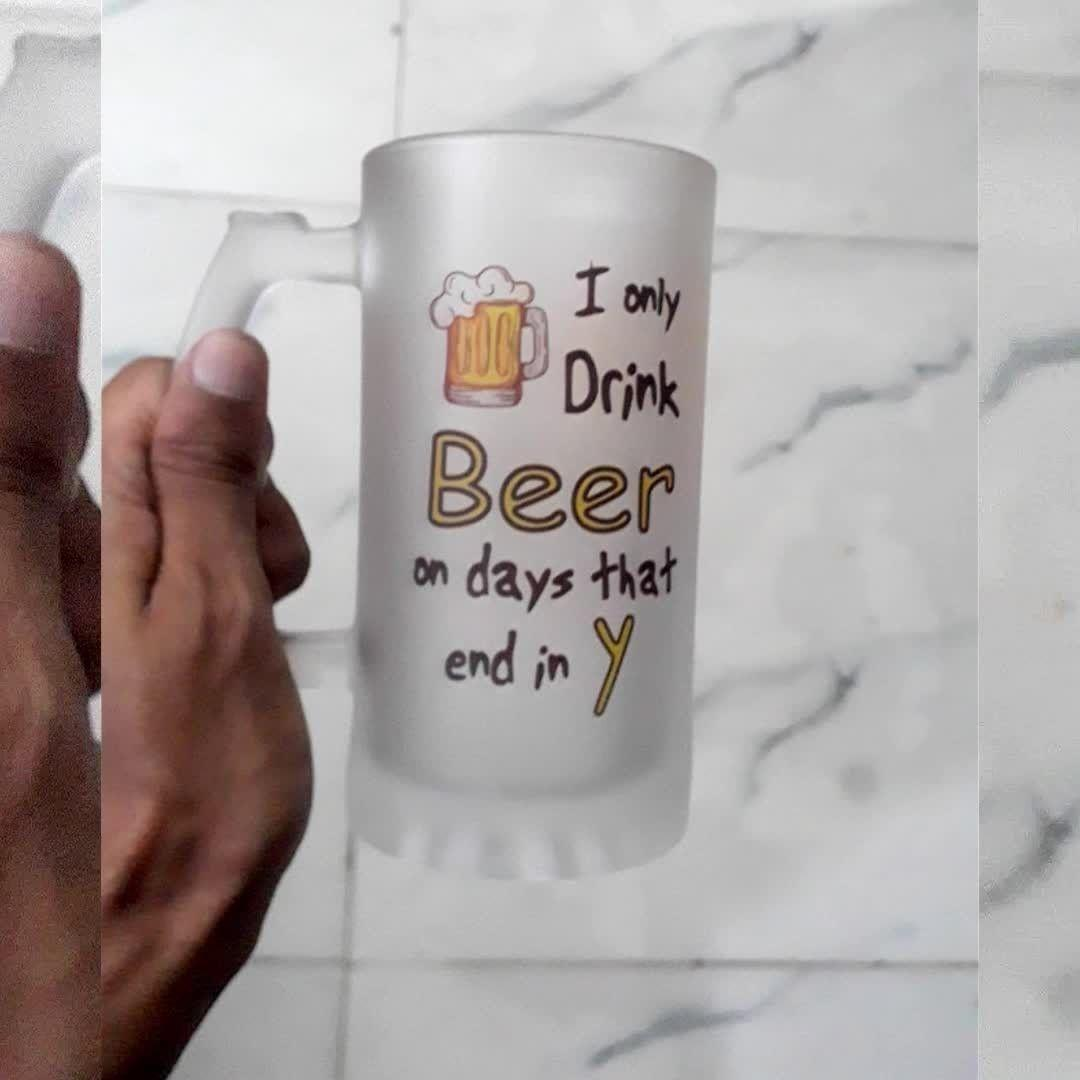glass-mug: (168, 118, 721, 887)
